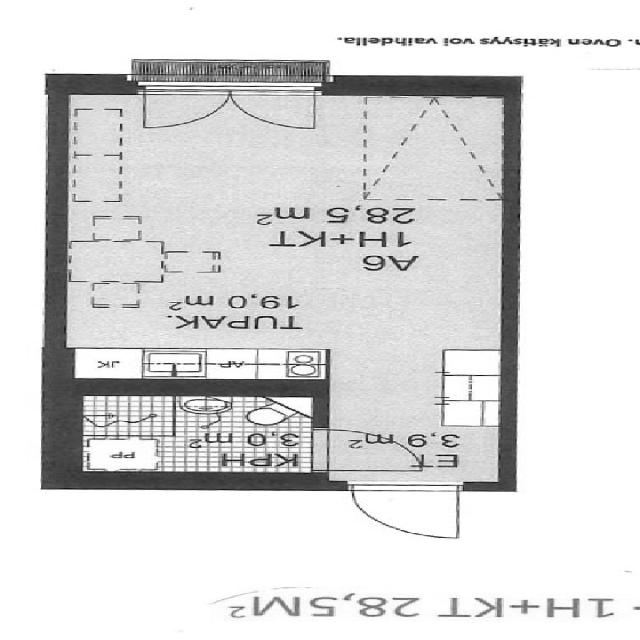door: (64, 86, 510, 382), (64, 389, 313, 478)
zone: (134, 76, 326, 134), (344, 476, 465, 543), (281, 419, 421, 472)
